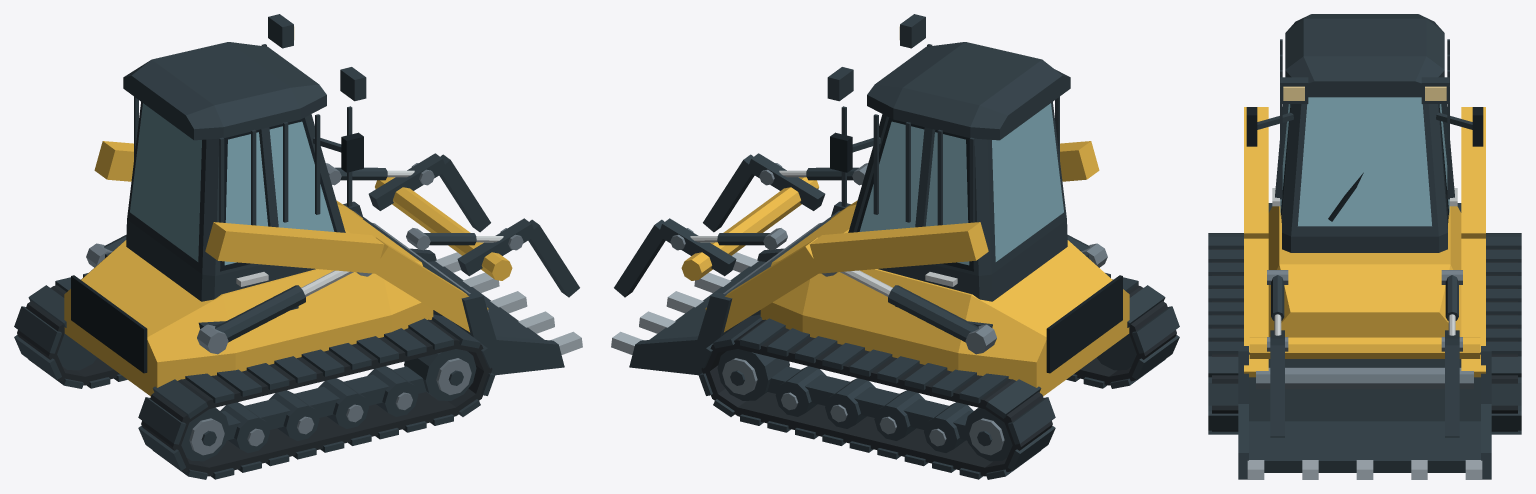
The model's file is b07_compact_track_loader_grapple.glb.
3 renders of one model, left to right at view 1: azimuth 30°, elevation 25°; view 2: azimuth 150°, elevation 25°; view 3: azimuth 270°, elevation 25°, orthographic.
Parts seen in each view (by area): view 1: b07_compact_track_loader_grapple; view 2: b07_compact_track_loader_grapple; view 3: b07_compact_track_loader_grapple.
Boxes of the visible parts, x1=… form: b07_compact_track_loader_grapple: x1=14, y1=14, x2=582, y2=479; b07_compact_track_loader_grapple: x1=611, y1=14, x2=1179, y2=479; b07_compact_track_loader_grapple: x1=1208, y1=14, x2=1521, y2=479.
Bounding box in the file's own units: 3.02 × 2.17 × 1.9.
